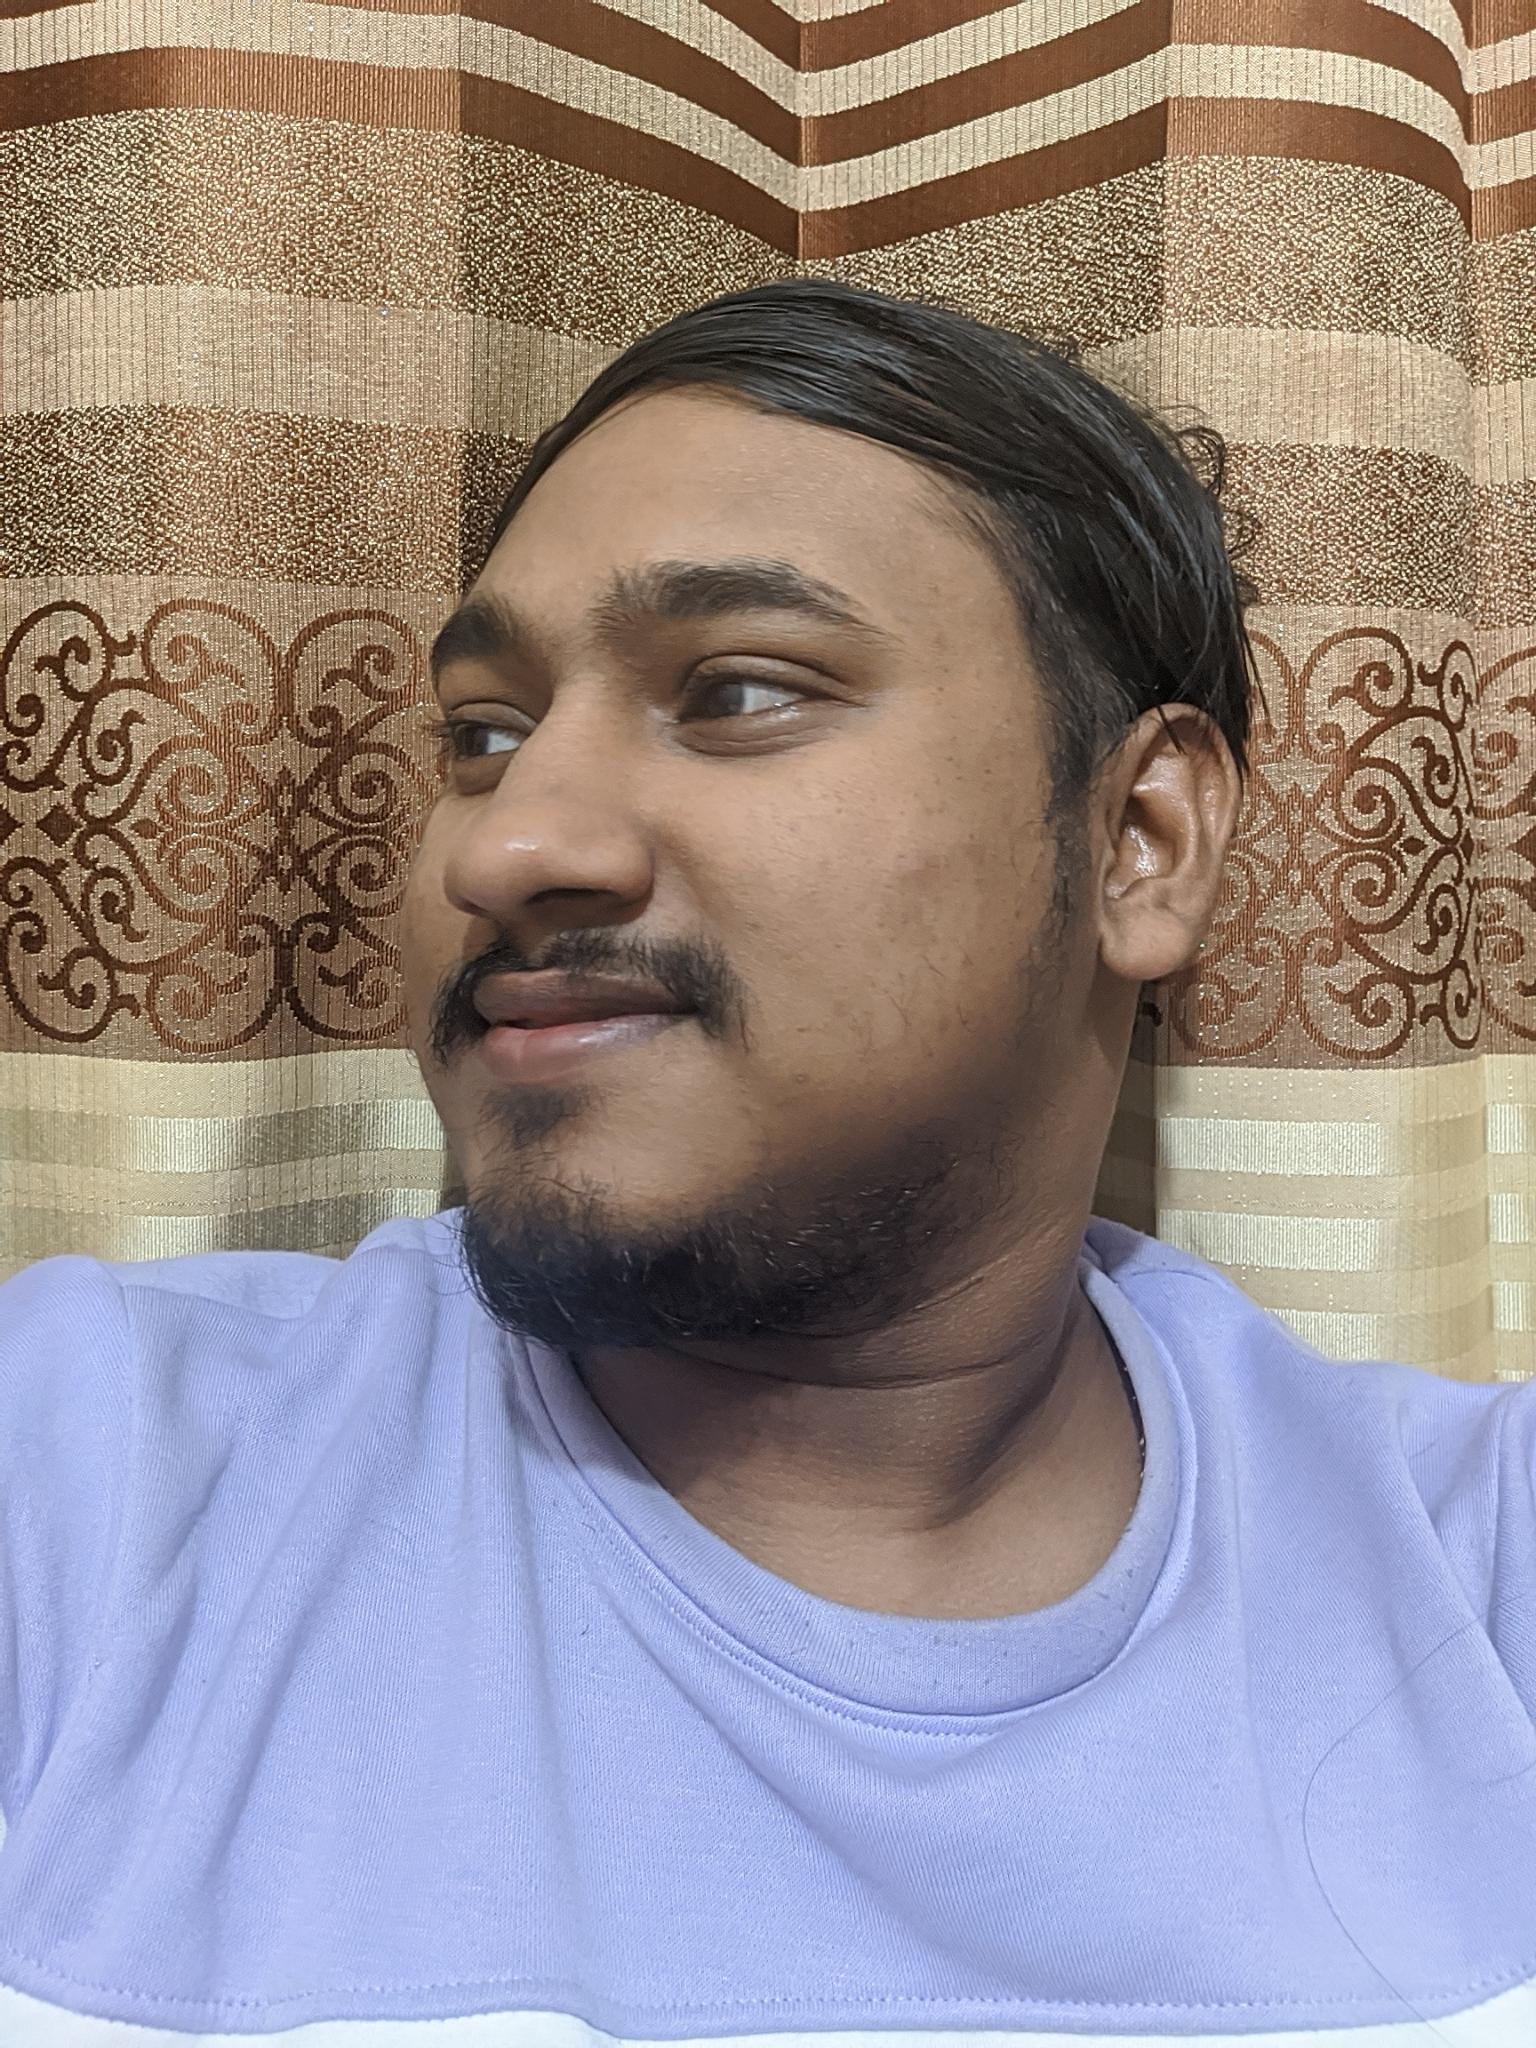Happy: (374, 508, 999, 1326)
